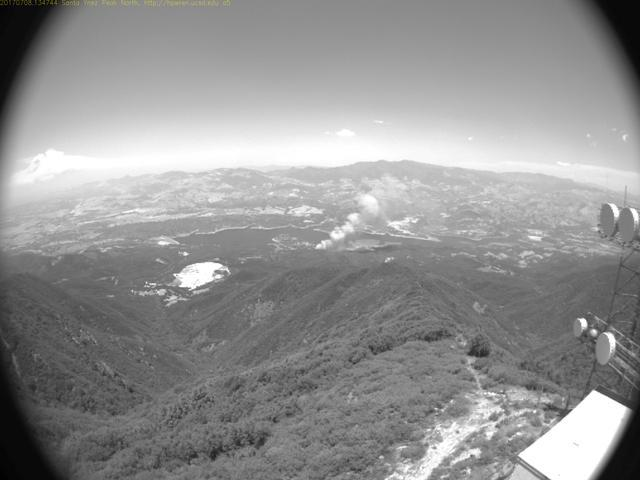smoke: (311, 173, 415, 252)
